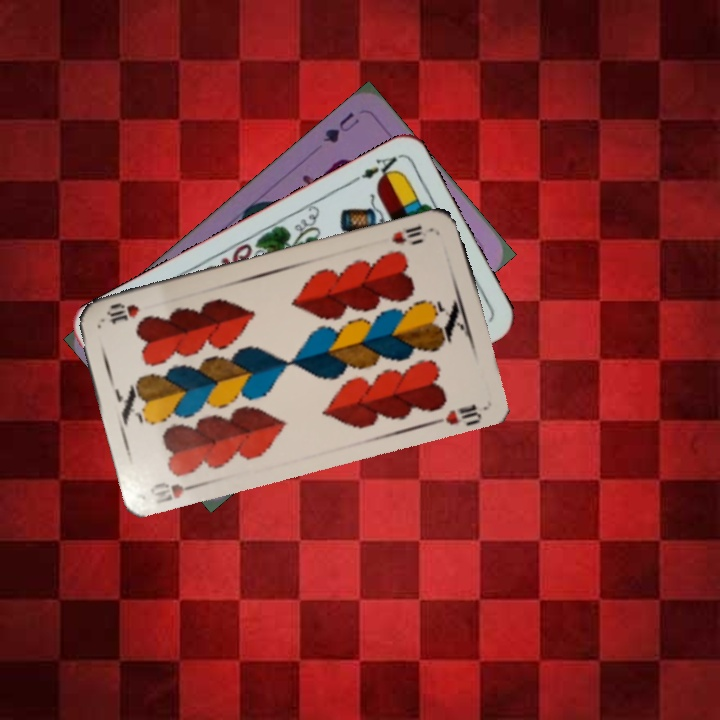EA: (347, 152, 401, 186)
GU: (318, 108, 362, 146)
H10: (146, 478, 204, 507), (387, 221, 437, 247)
